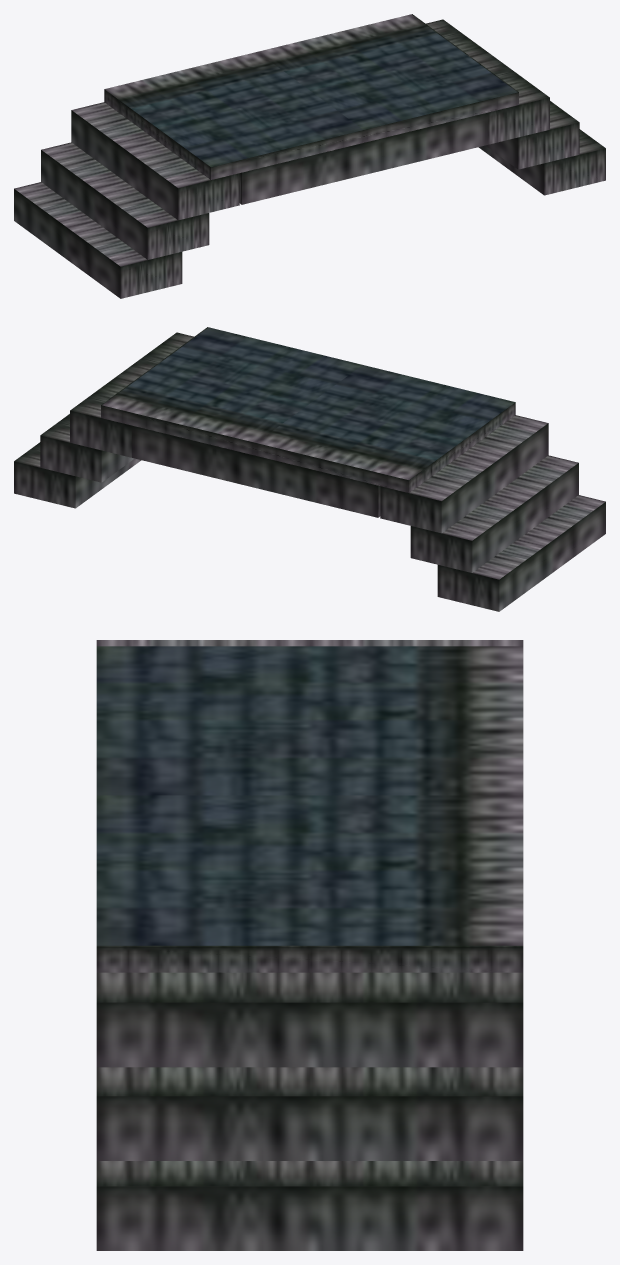
File: bridge_sewer.fbx
3 views of the same model, one above another, from view 1: azimuth 30°, elevation 25°; view 2: azimuth 150°, elevation 25°; view 3: azimuth 270°, elevation 25° (orthographic). The views are drawn at different scales.
Parts seen in each view (by area): view 1: Cube.004; view 2: Cube.004; view 3: Cube.004.
Boxes of the visible parts, <box> form: Cube.004: <box>14,14,605,298</box>; Cube.004: <box>14,327,605,611</box>; Cube.004: <box>96,640,523,1250</box>.
Size of the model in its own units: 1575 by 340 by 600.
Materials: 2 (2 with a texture image).
